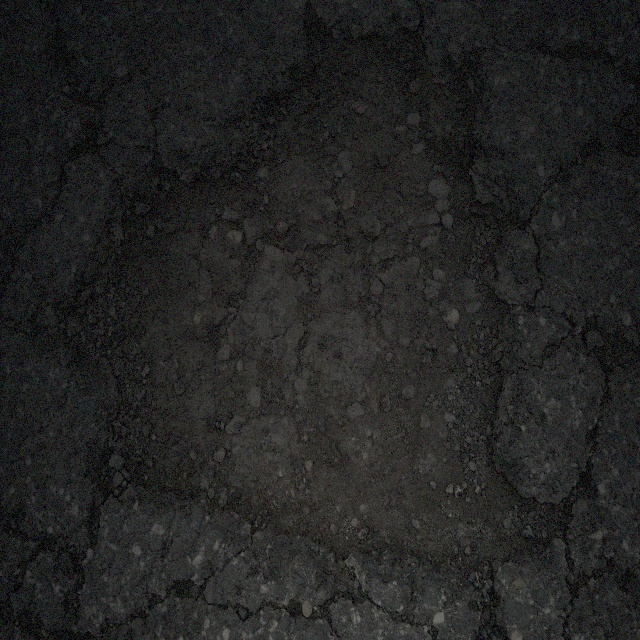pothole: (61, 16, 569, 576)
